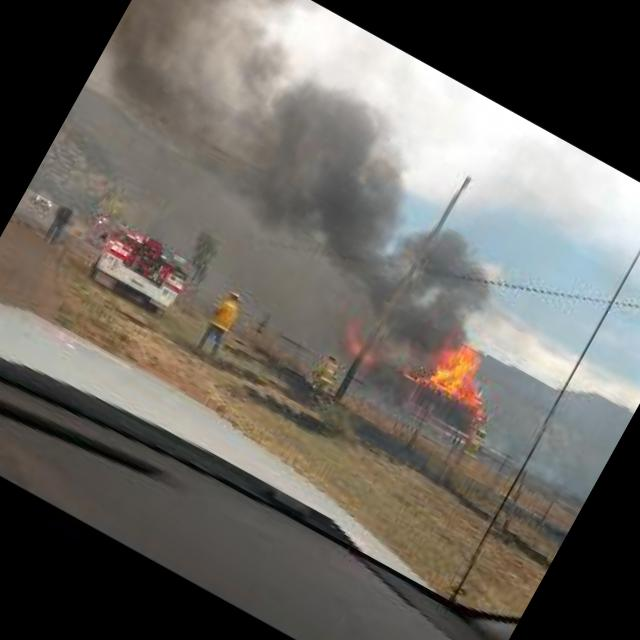fire: (410, 318, 524, 425)
smoke: (50, 0, 555, 369)
